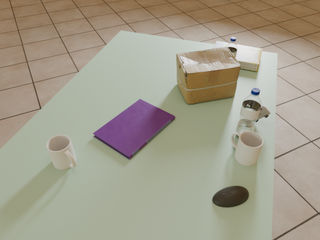book: (93, 99, 175, 159)
bottle: (236, 88, 262, 137), (226, 37, 238, 58)
box: (176, 47, 241, 104), (213, 41, 262, 71)
cup: (231, 131, 264, 166), (46, 135, 76, 170)
mouse: (212, 186, 249, 207)
toy_car: (256, 106, 271, 122)
